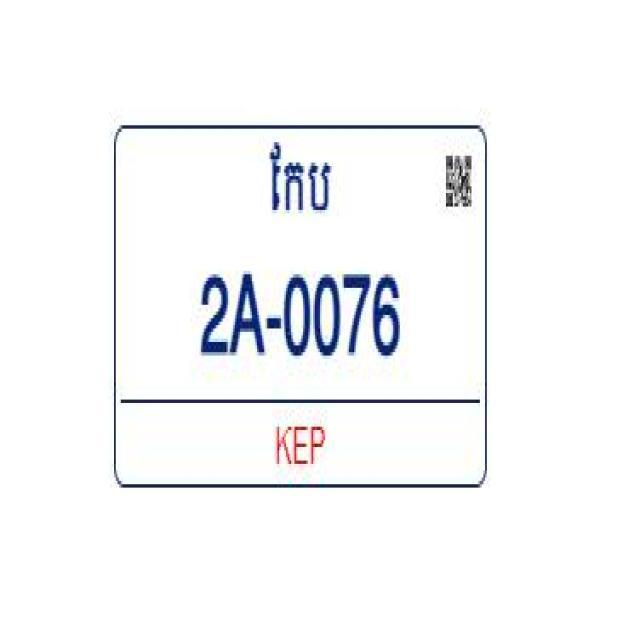Kep: (267, 139, 334, 220)
